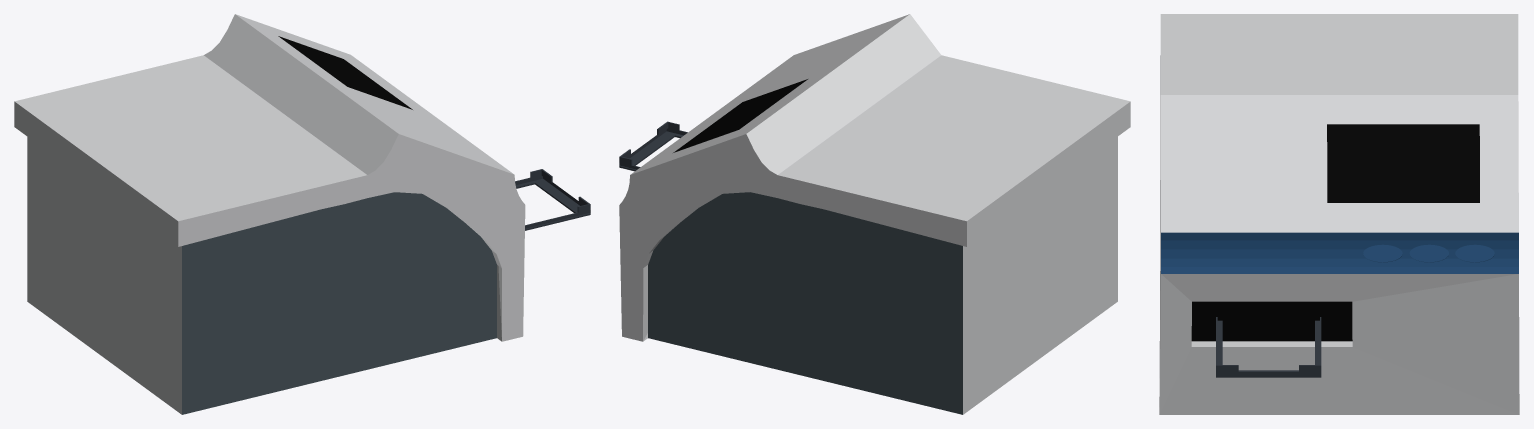
Rendered from Spectrophotometer.fbx.
The picture shows the model from 3 angles, left to right: view 1: azimuth 30°, elevation 25°; view 2: azimuth 150°, elevation 25°; view 3: azimuth 270°, elevation 25°; orthographic projection. The views are drawn at different scales.
Parts seen in each view (by area): view 1: Spectrophotometer, Drawer; view 2: Spectrophotometer, Drawer; view 3: Spectrophotometer, Drawer.
Part boxes in pixels (left/top/right/bottom): Spectrophotometer: left=14, top=14, right=525, bottom=414; Drawer: left=515, top=169, right=590, bottom=230; Spectrophotometer: left=619, top=14, right=1130, bottom=414; Drawer: left=619, top=121, right=687, bottom=171; Spectrophotometer: left=1159, top=14, right=1519, bottom=414; Drawer: left=1216, top=317, right=1321, bottom=377.
Bounding box in the file's own units: 309 × 157 × 201.
